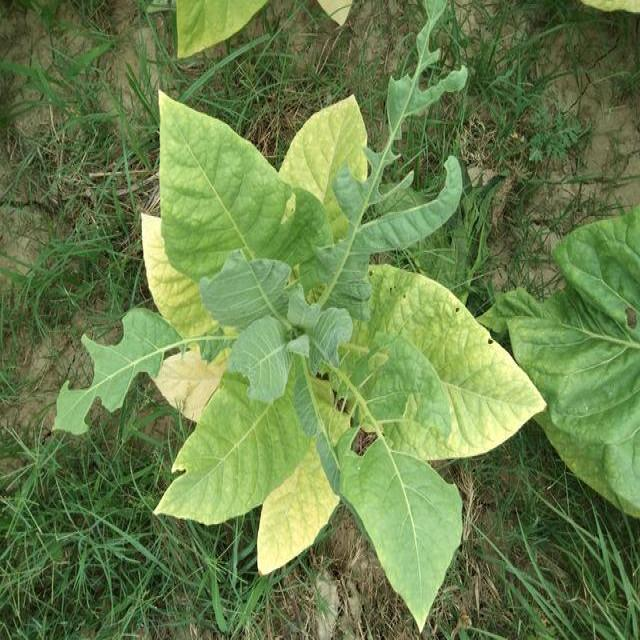crop: (82, 68, 546, 633)
